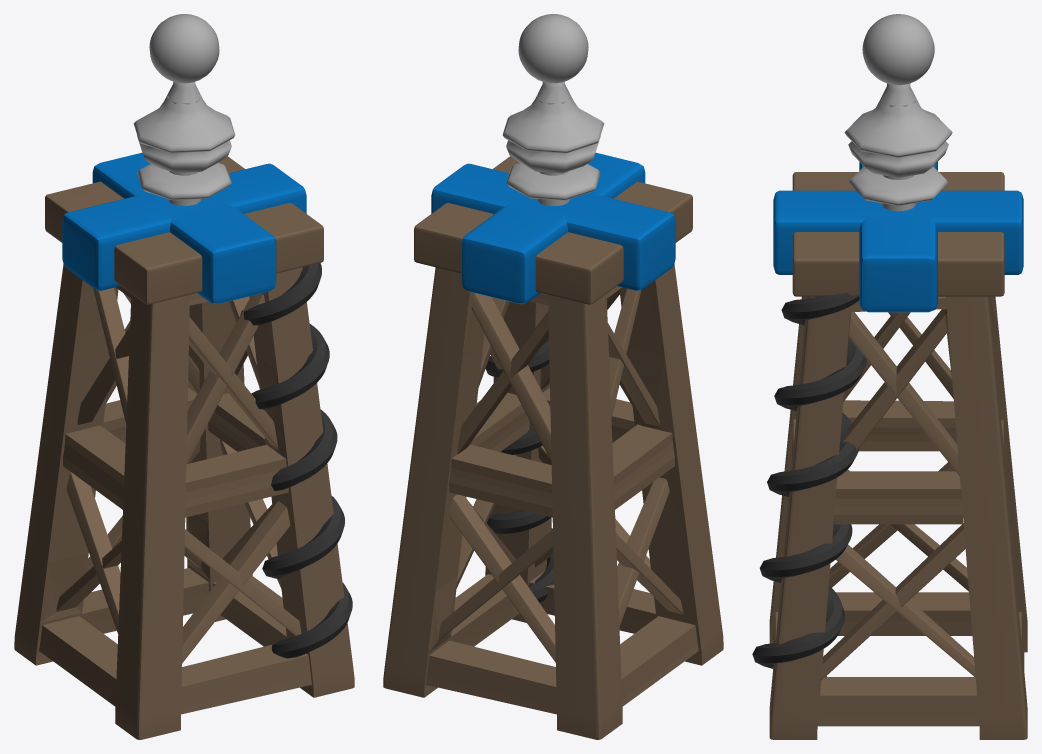
The model's file is Tesla.fbx.
3 renders of one model, left to right at view 1: azimuth 30°, elevation 25°; view 2: azimuth 150°, elevation 25°; view 3: azimuth 270°, elevation 25°, orthographic. The views are drawn at different scales.
Visible parts, largest first — view 1: polySurface8; view 2: polySurface8; view 3: polySurface8.
Boxes of the visible parts, <box> form: polySurface8: <box>14,14,354,739</box>; polySurface8: <box>383,14,723,739</box>; polySurface8: <box>752,14,1027,739</box>.
Size of the model in its own units: 83.05 by 232 by 86.84.
